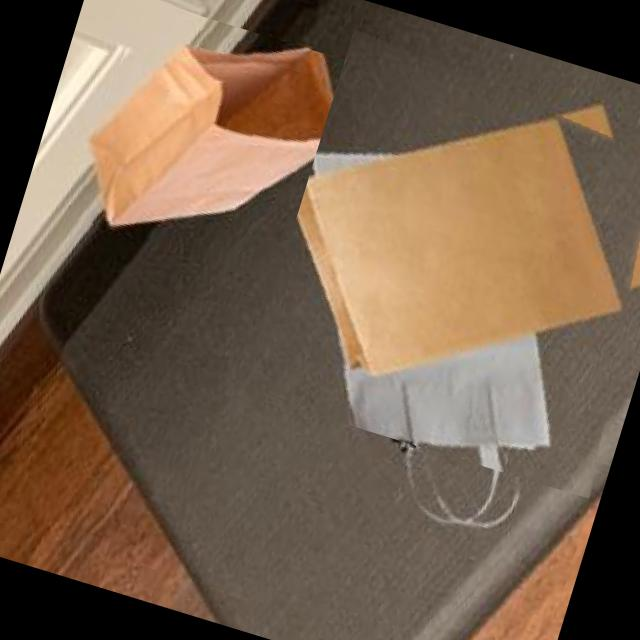PaperCardboard: (295, 112, 626, 447), (93, 47, 351, 227)
